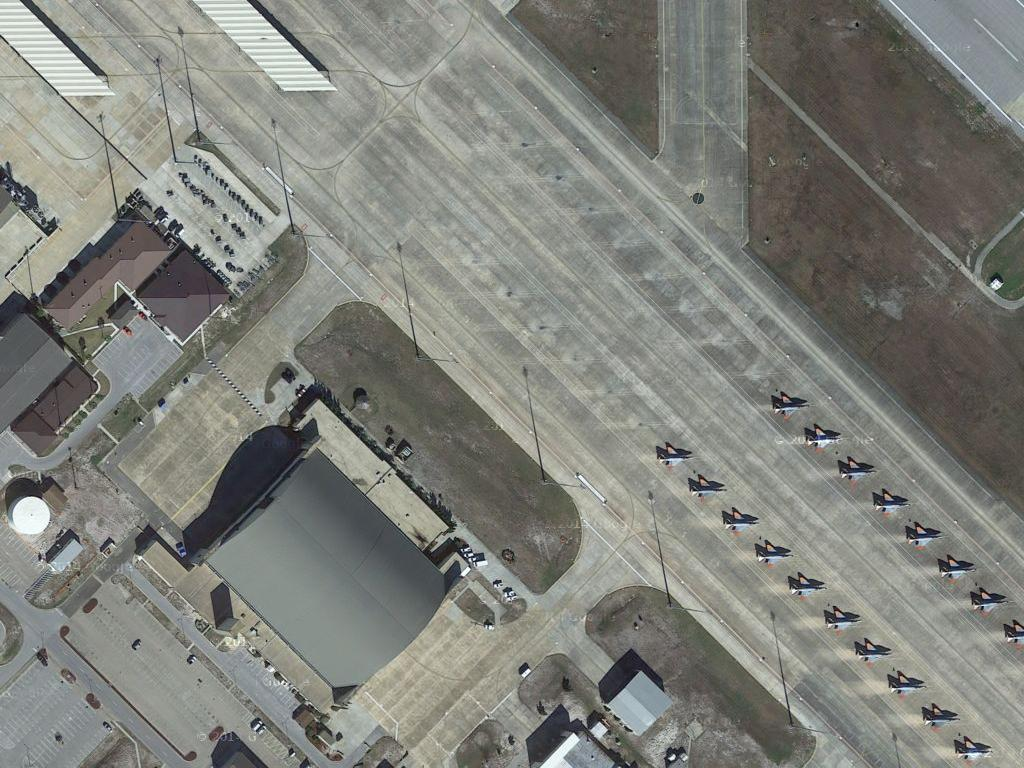plane: (830, 452, 880, 491), (651, 437, 700, 476), (765, 388, 815, 425), (717, 503, 765, 541), (749, 537, 798, 574), (965, 585, 1014, 622), (901, 519, 951, 555), (683, 472, 732, 508), (819, 602, 866, 639), (784, 572, 832, 607), (850, 636, 898, 671), (799, 422, 848, 456), (935, 553, 981, 589), (882, 669, 927, 704), (868, 488, 914, 522), (951, 734, 998, 767), (919, 704, 966, 736)
